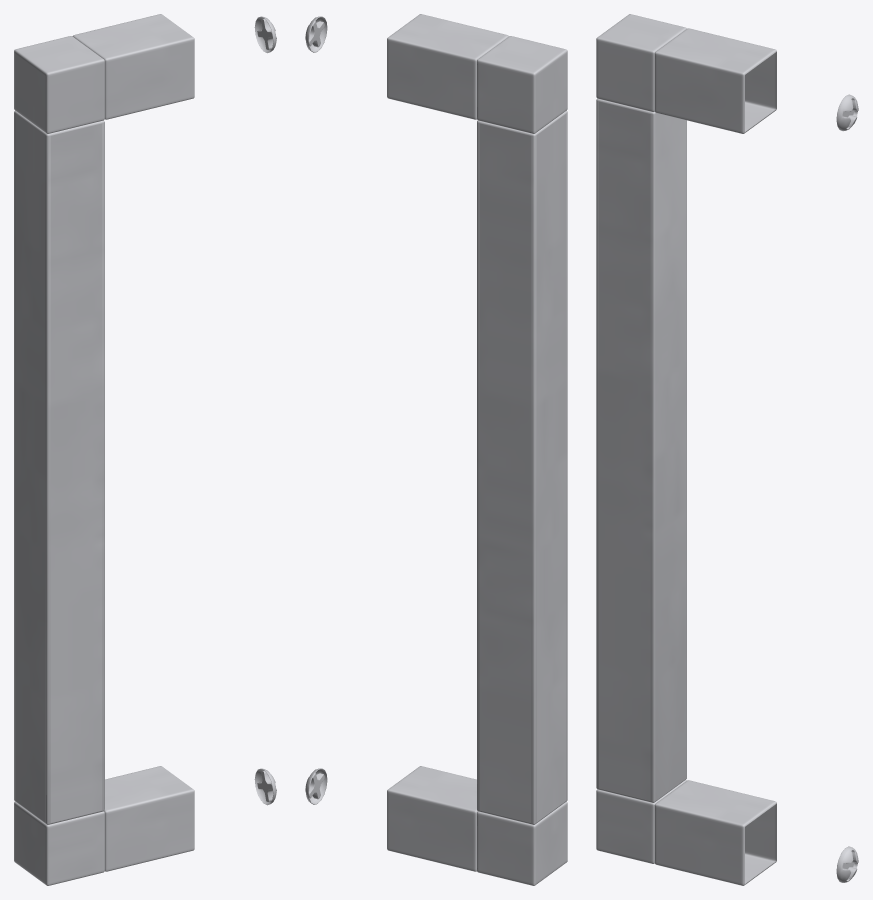
Rendered from SM_Kitchen_Handle.dae.
3 renders of one model, left to right at view 1: azimuth 30°, elevation 25°; view 2: azimuth 150°, elevation 25°; view 3: azimuth 330°, elevation 25°, orthographic.
Visible parts, largest first — view 1: SM_Kitchen_Handle; view 2: SM_Kitchen_Handle; view 3: SM_Kitchen_Handle.
Part boxes in pixels (x1,y1,x2,y2): SM_Kitchen_Handle: (14,14,276,885); SM_Kitchen_Handle: (305,14,567,885); SM_Kitchen_Handle: (596,14,858,885).
Bounding box in the file's own units: 0.0538 × 0.013 × 0.173.
